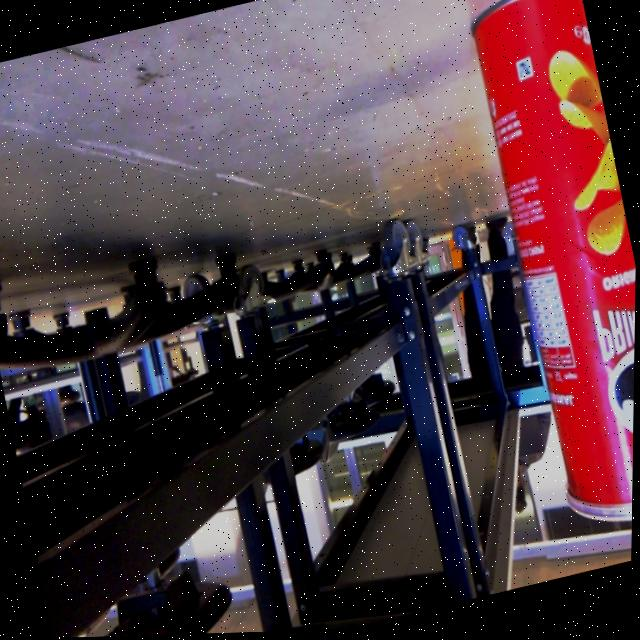redpringles: (427, 0, 640, 571)
